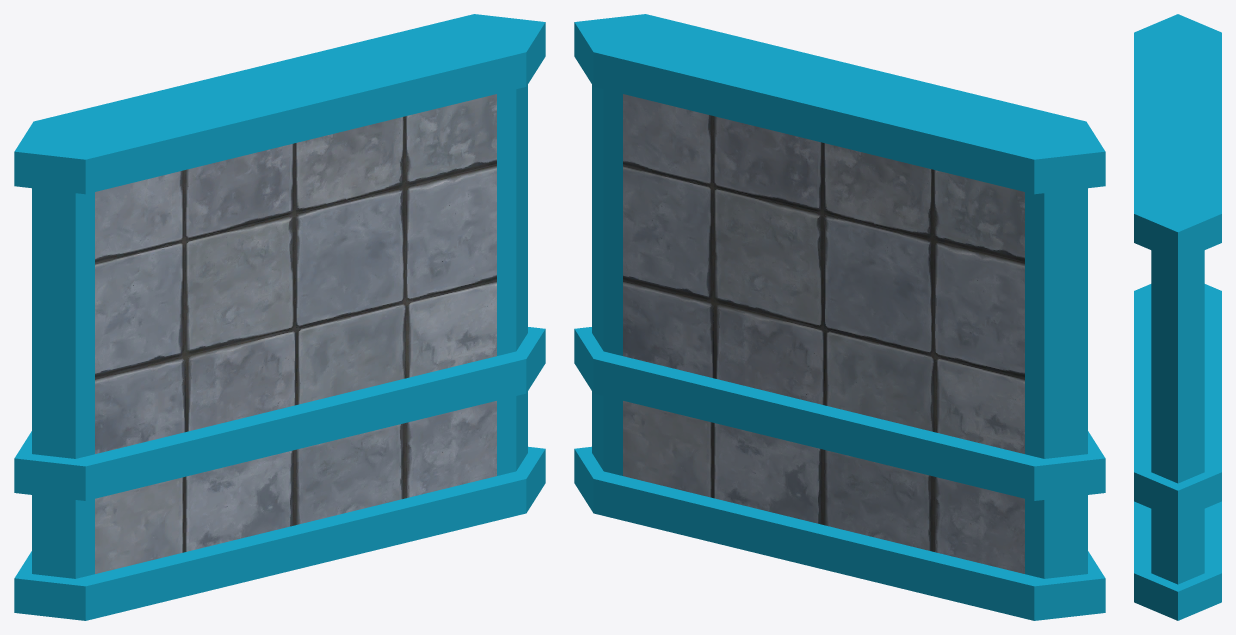
The model's file is Wall1.fbx.
3 renders of one model, left to right at view 1: azimuth 30°, elevation 25°; view 2: azimuth 150°, elevation 25°; view 3: azimuth 270°, elevation 25°, orthographic. The views are drawn at different scales.
Parts seen in each view (by area): view 1: wall_skyscraperGlassDivider%_84; view 2: wall_skyscraperGlassDivider%_84; view 3: wall_skyscraperGlassDivider%_84.
Boxes of the visible parts, x1=… form: wall_skyscraperGlassDivider%_84: x1=14, y1=14, x2=545, y2=620; wall_skyscraperGlassDivider%_84: x1=574, y1=14, x2=1105, y2=620; wall_skyscraperGlassDivider%_84: x1=1134, y1=14, x2=1221, y2=620.
Bounding box in the file's own units: 12.05 × 10 × 2.05.
Materials: 2 (1 with a texture image).
